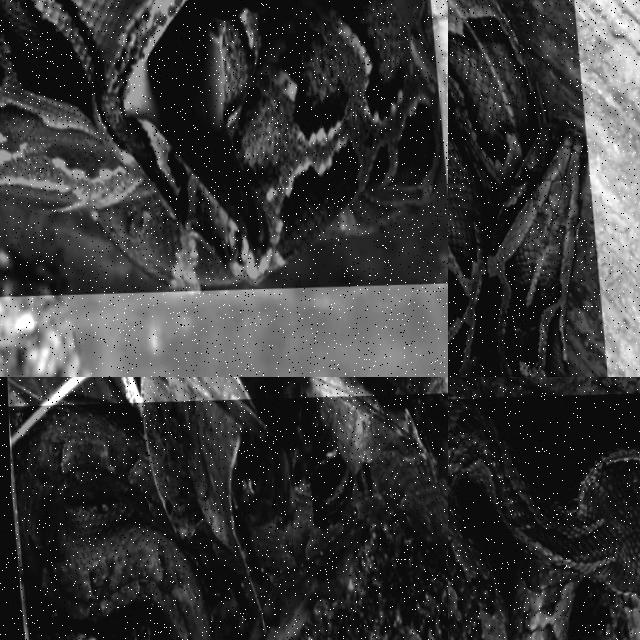Calloselasma rhodostoma: (14, 403, 210, 639)
Ovophis monticola: (448, 398, 639, 639)
Python bivittatus: (0, 0, 439, 290), (448, 0, 587, 376)
snake: (0, 0, 439, 290), (448, 0, 587, 376), (14, 403, 210, 639), (448, 398, 639, 639)
